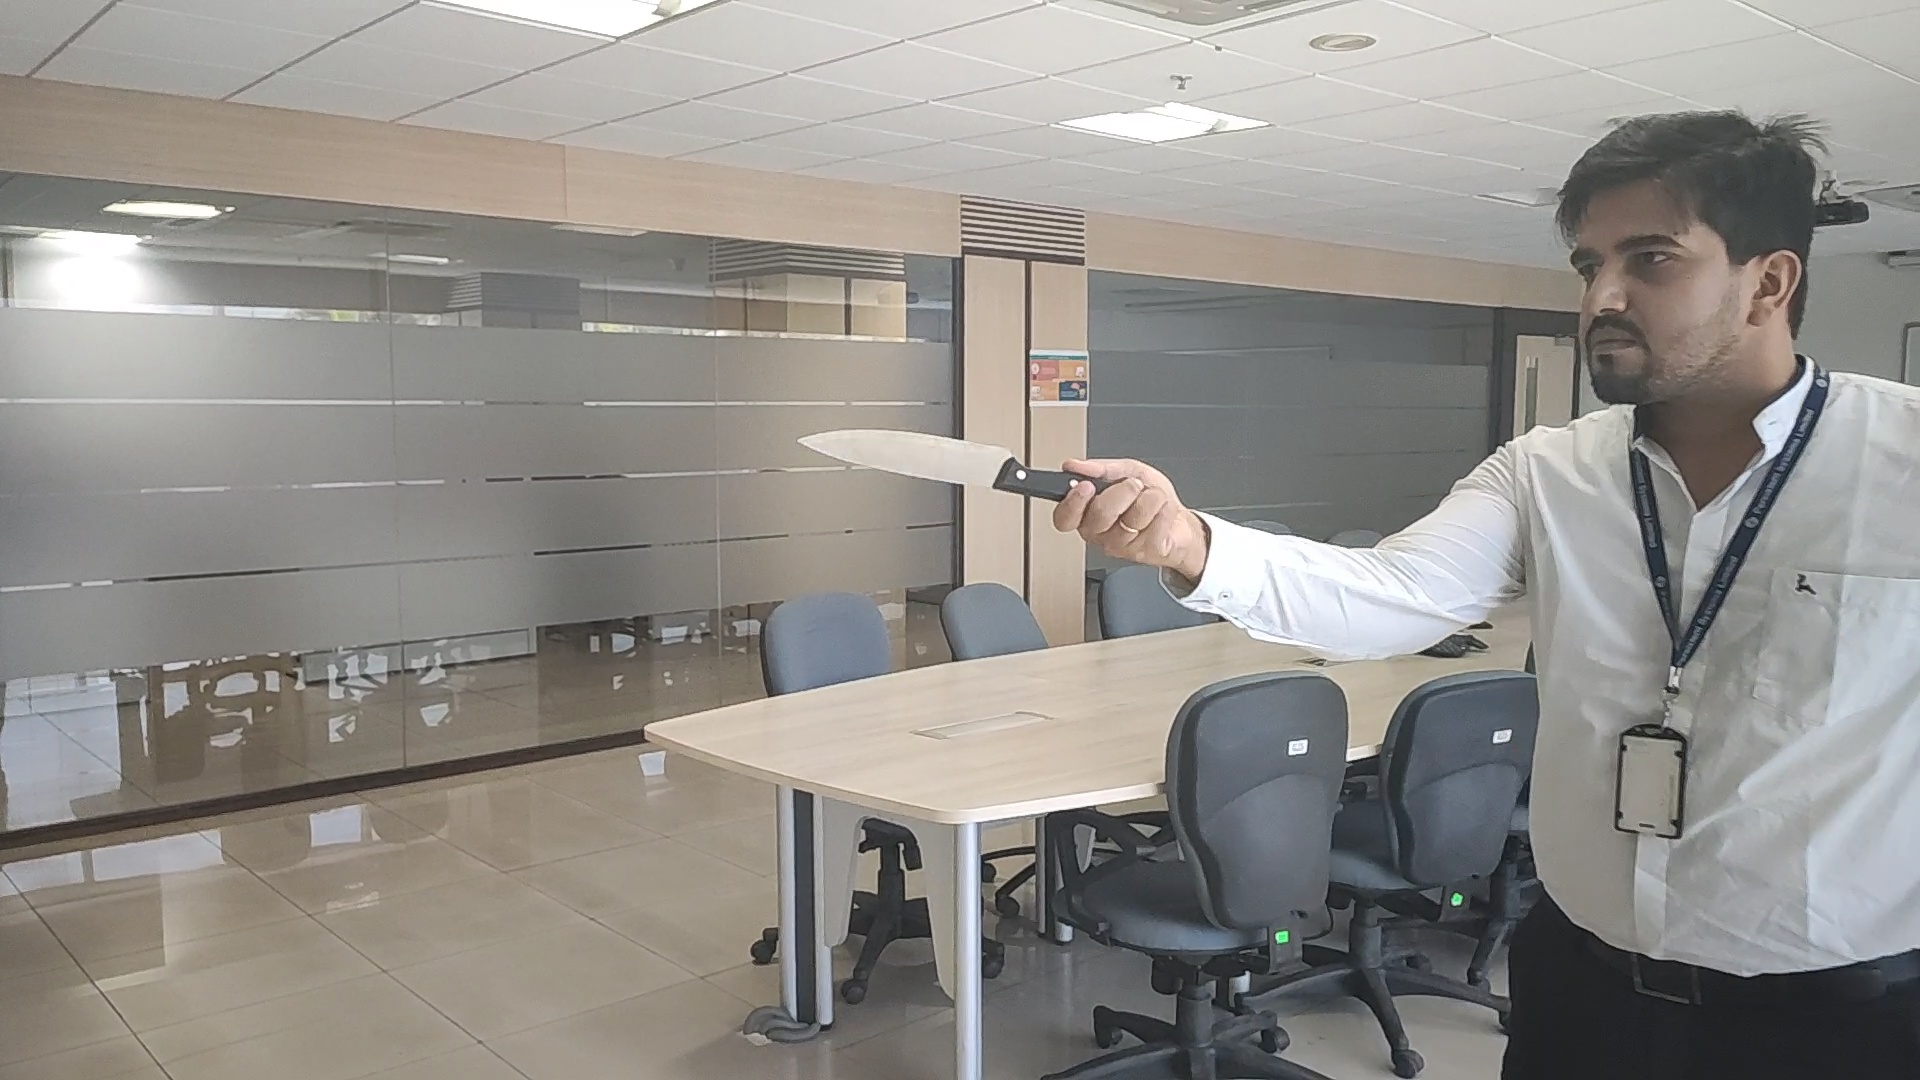knife: (795, 423, 1067, 501)
